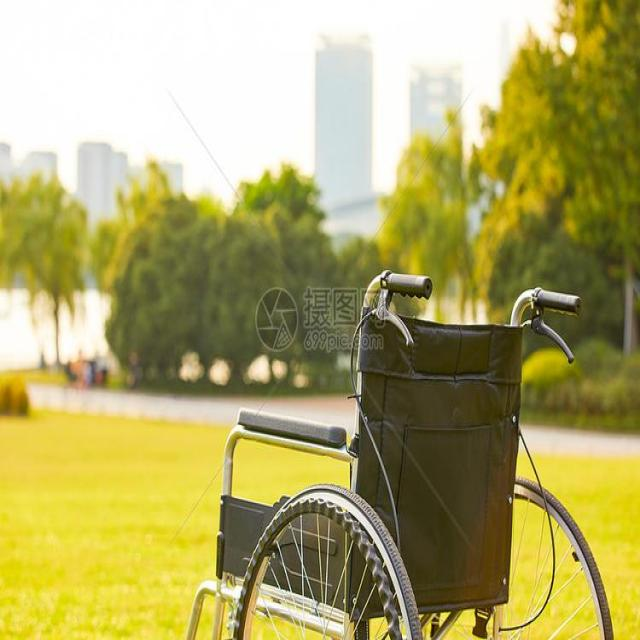wheelchairs: (181, 258, 624, 640)
